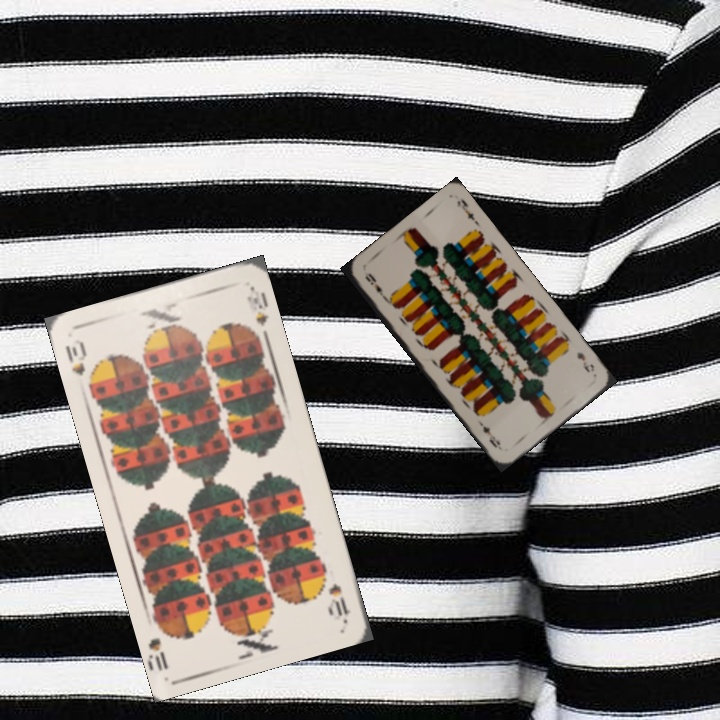E9: (361, 268, 390, 303), (572, 348, 597, 375)
S10: (61, 335, 98, 392), (324, 579, 353, 619)
